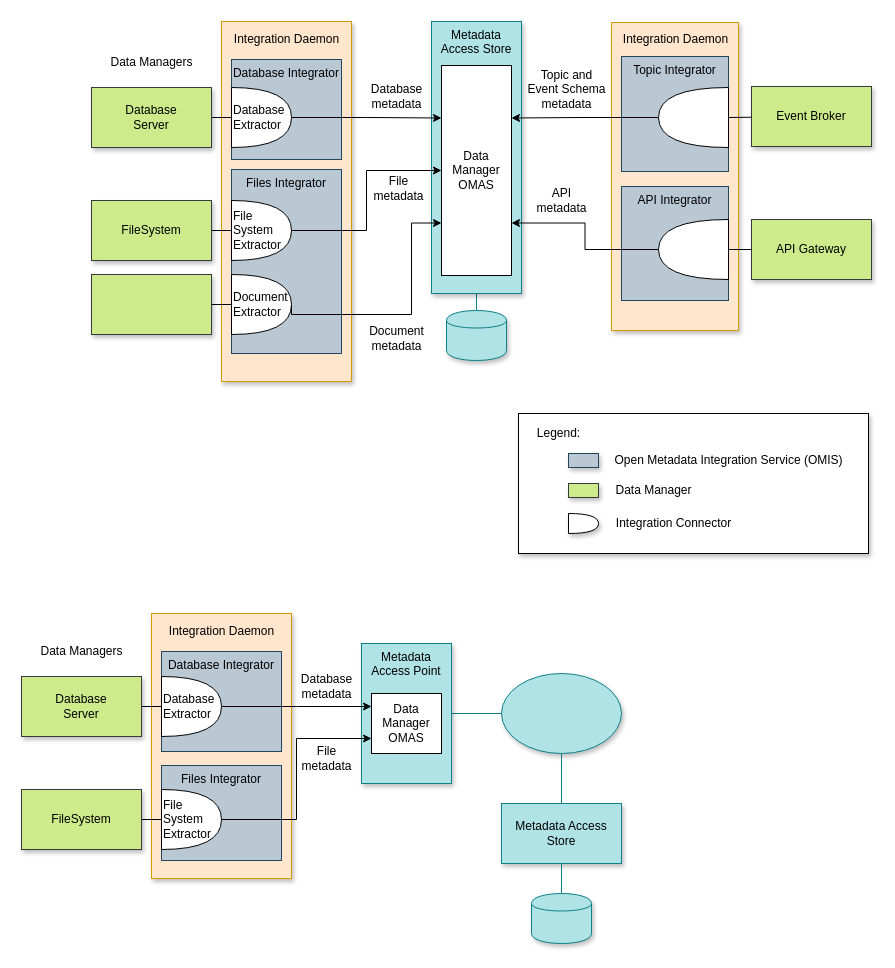
Some shapes in this 895 by 968 pixel diagram are drawn without their labels. The shapes that lost their labels are listed below. From the top down, each one's centre as x and y in pixels, then its label:
At point (693, 117): "Topic Extractor".
At point (693, 249): "API Extractor".
At point (152, 306): "Content Manager".
At point (562, 714): "Cohort".
